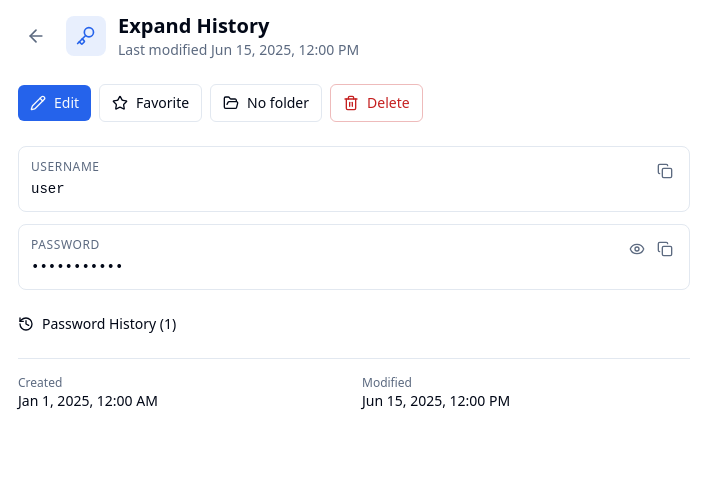
Test: VaultItemDetail › Password history › expands password history and shows decrypted passwords
Click the button "Password History (1)".
click(97, 324)  # box [18, 314, 176, 334]
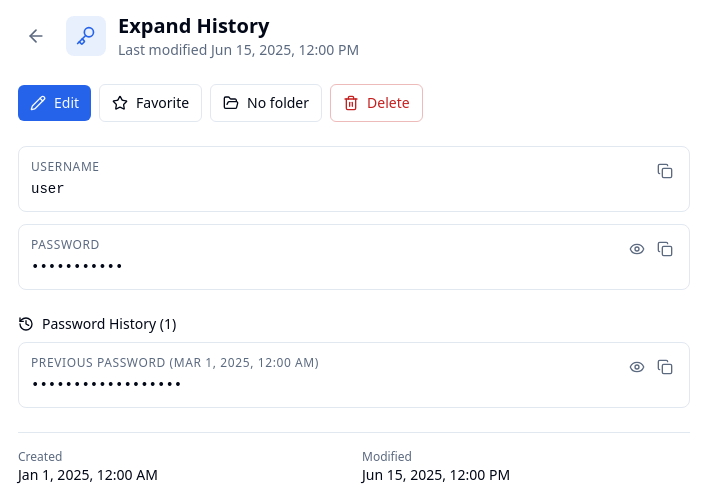
Result: the text "Previous password (Mar 1, 2025, 12:00 AM)" is shown at [31, 354, 319, 371]
